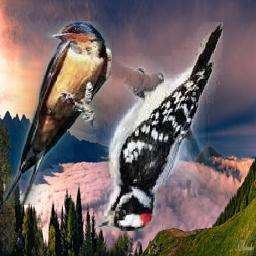Swallow: (4, 21, 113, 205)
Woodpecker: (95, 23, 224, 232)
